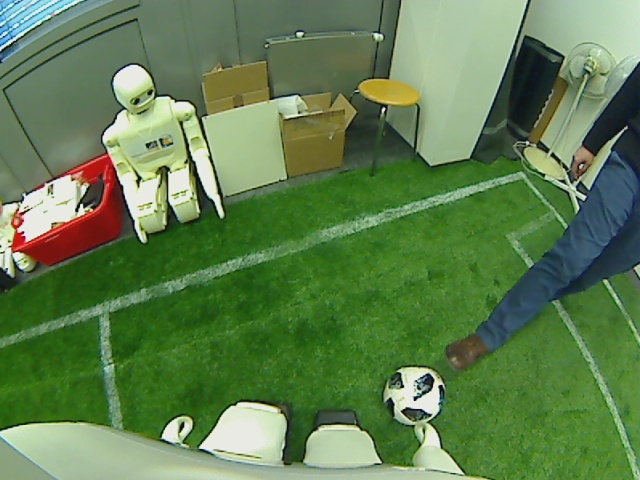ball: (381, 362, 445, 426)
